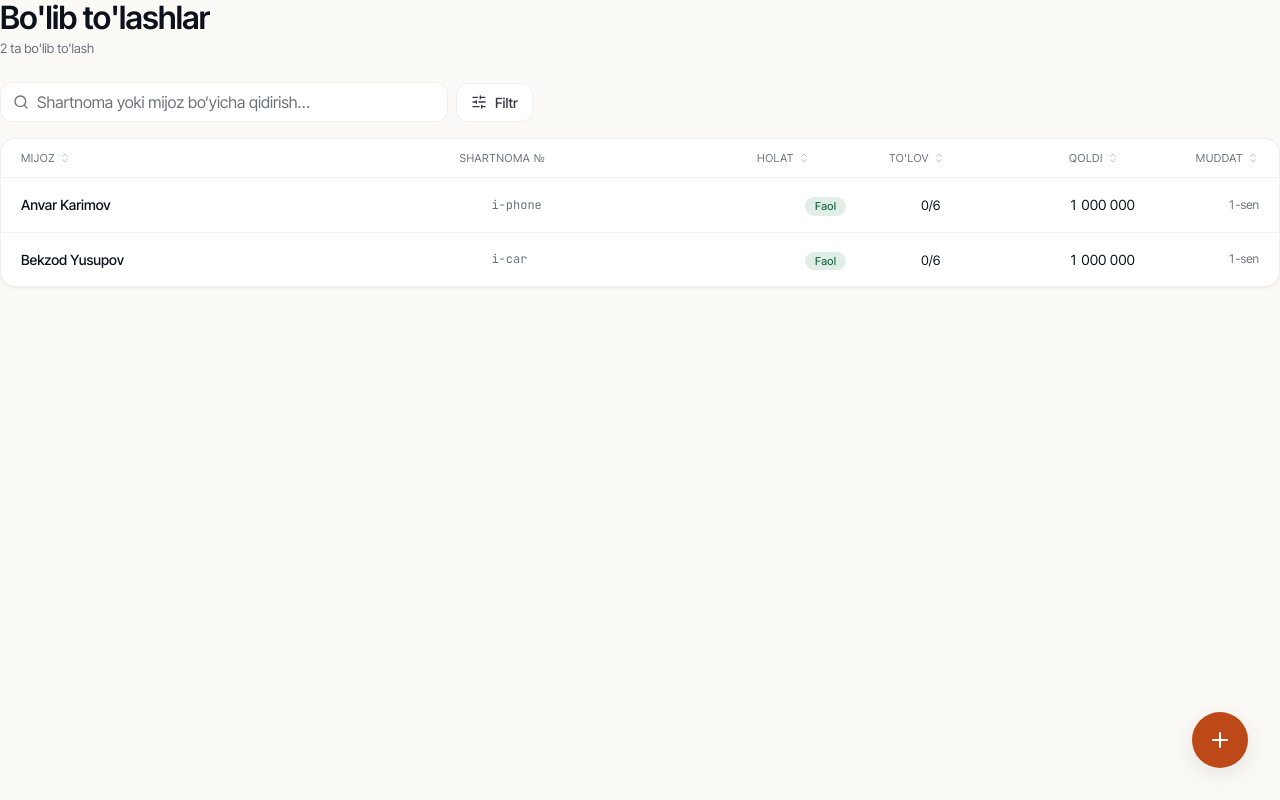
the contracts list can be filtered by category › offers a category chip per category that has contracts
Click the button "Filtr" at (494, 102), box [456,82,533,122]
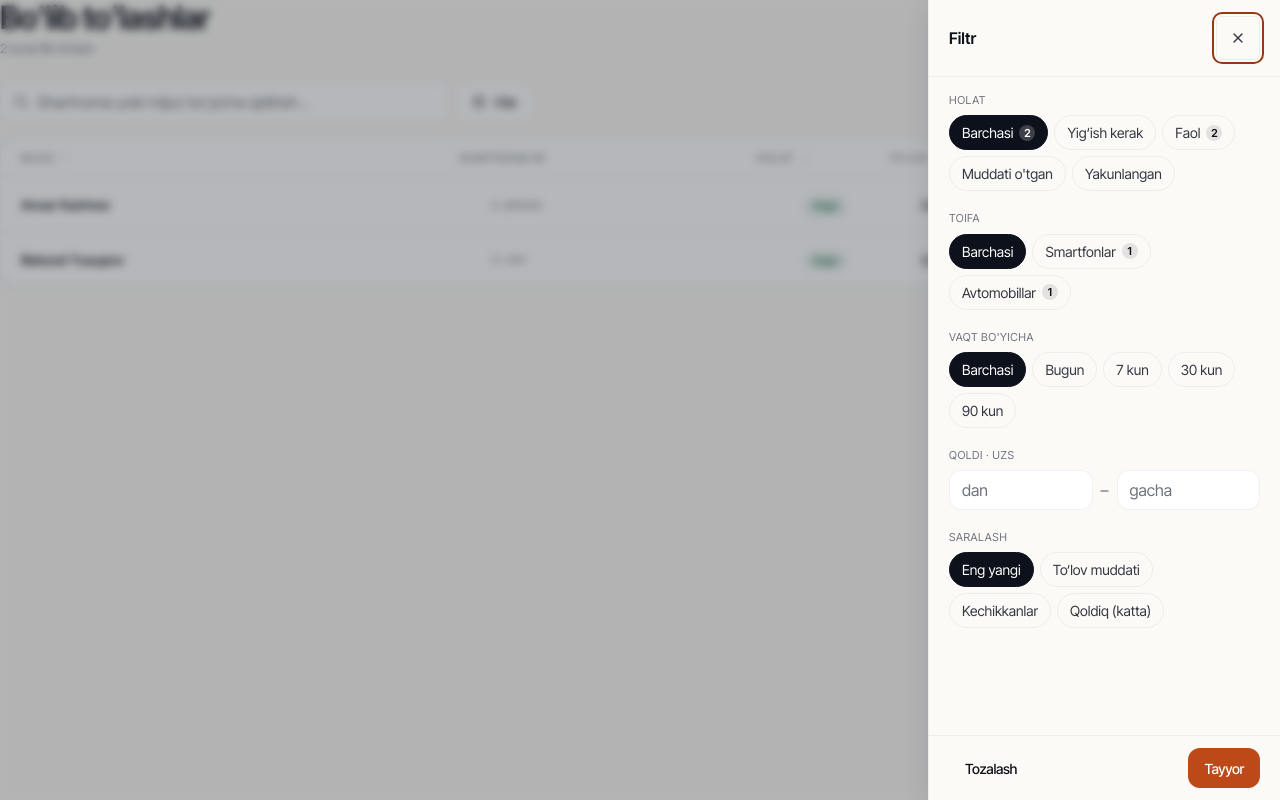
Now the radio button labelled "Smartfonlar 1" is shown, box [1032,234,1151,269]
Now the radio button labelled "Avtomobillar 1" is shown, box [949,275,1071,310]
